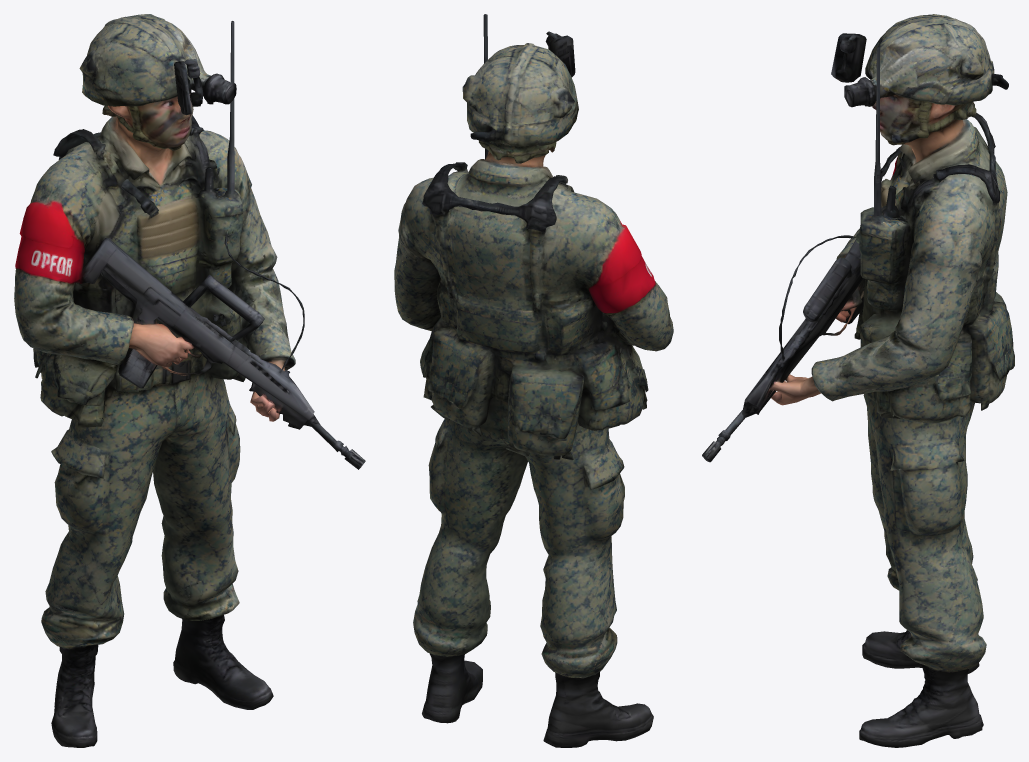
The model's file is opfor trooper.glb.
3 views of the same model, side by side, from view 1: azimuth 30°, elevation 25°; view 2: azimuth 150°, elevation 25°; view 3: azimuth 270°, elevation 25° (orthographic).
Parts seen in each view (by area): view 1: tripo_node_5e8306aa; view 2: tripo_node_5e8306aa; view 3: tripo_node_5e8306aa.
Boxes of the visible parts, x1,y1,x2,y2 form: tripo_node_5e8306aa: (14, 14, 365, 747); tripo_node_5e8306aa: (394, 14, 673, 747); tripo_node_5e8306aa: (702, 14, 1014, 747).
Size of the model in its own units: 1.36 by 3.42 by 1.41.
Materials: 1 (1 with a texture image).
